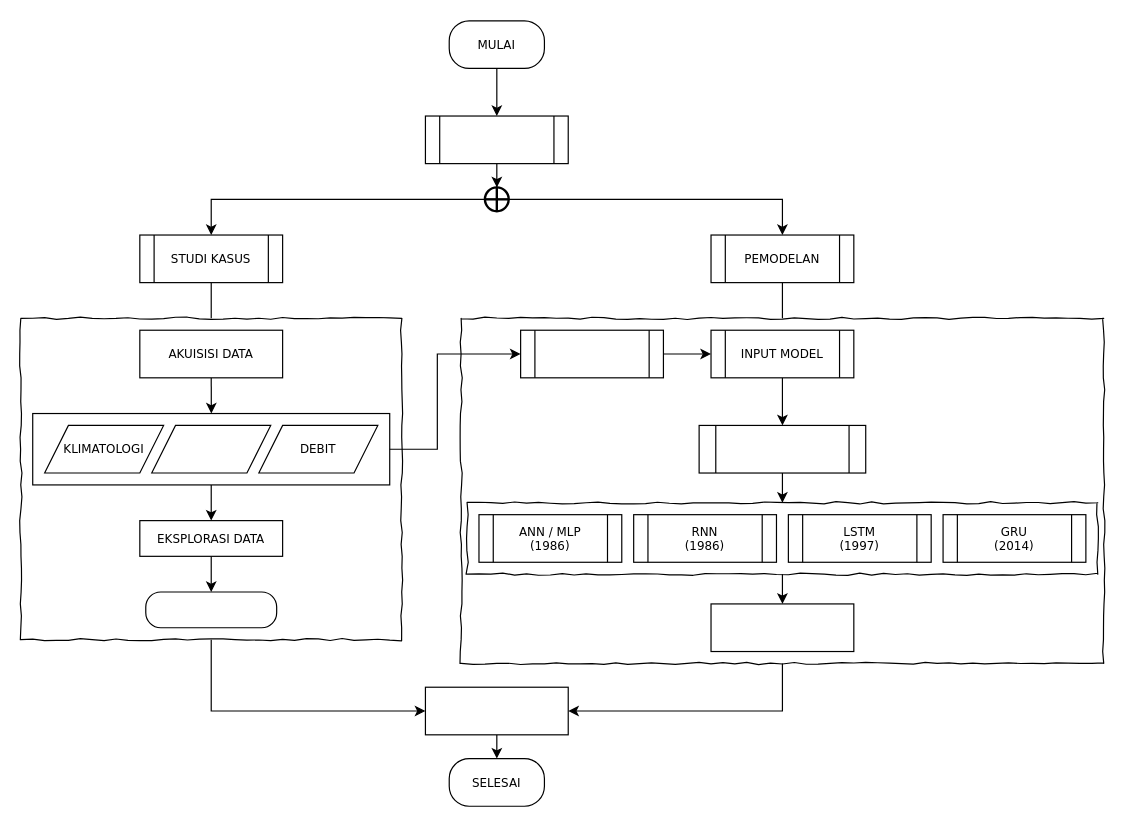
This 1125x827 diagram has some shape labels left out. The shapes that lost their labels are listed below. From the top down, each one's centre as x and y in pixels, then its label:
At [496,139]: "STUDI LITERATUR".
At [591,353]: "PRAPEMROSESAN DATA".
At [211,448]: "CURAH HUJAN".
At [782,448]: "HYPERPARAMETER MODEL".
At [211,609]: "DESKRIPSI STUDI KASUS".
At [782,627]: "EVALUASI PEMODELAN".
At [496,710]: "PEMBAHASAN".
